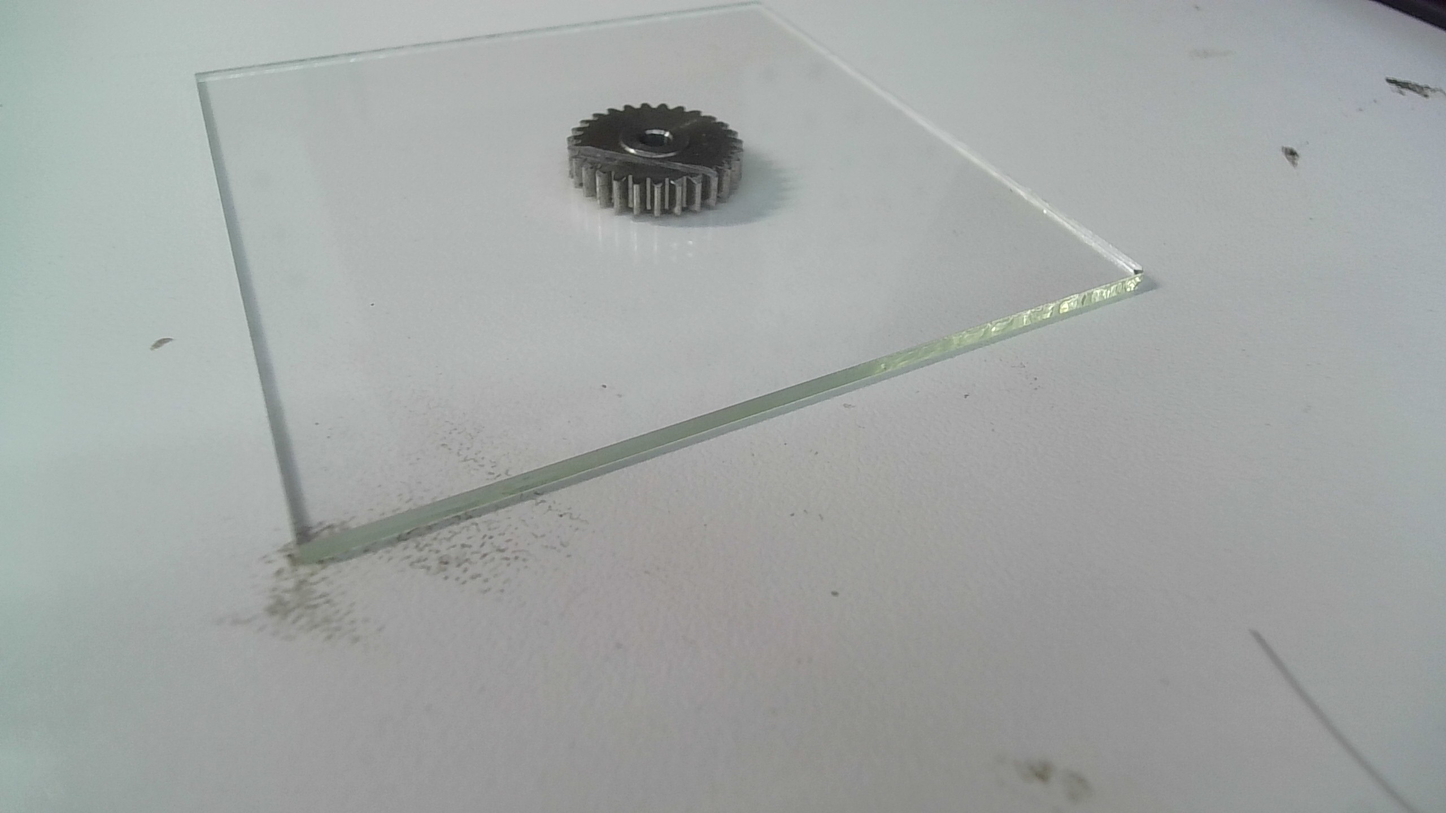gear: (564, 99, 745, 222)
